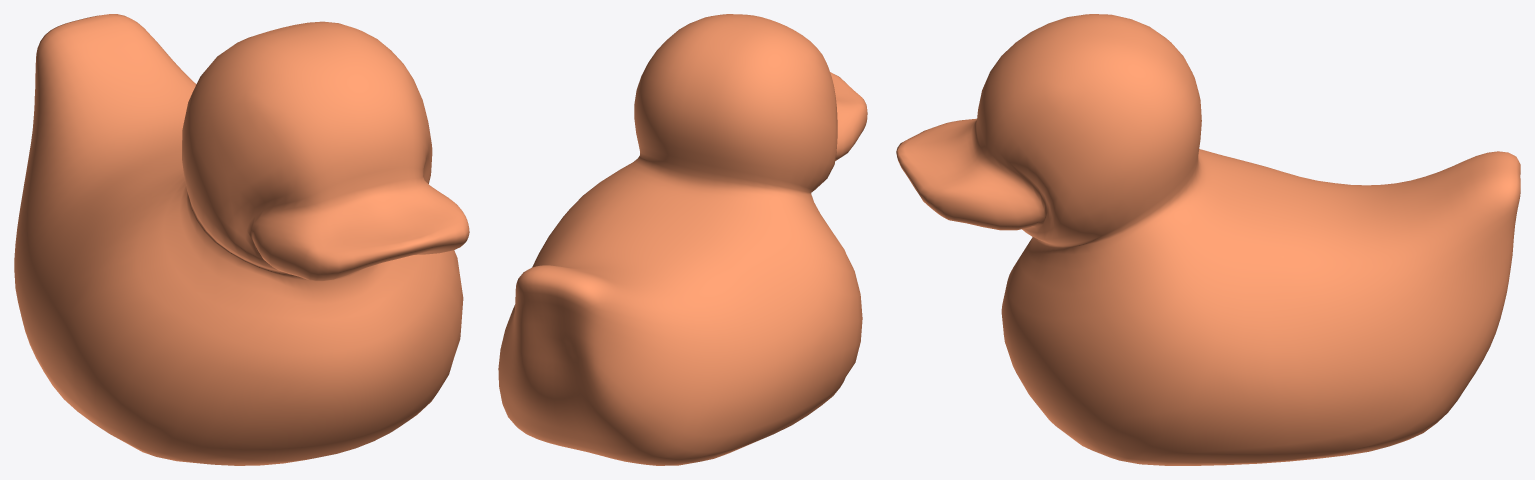
File: duck.glb
The picture shows the model from 3 angles, left to right: view 1: azimuth 30°, elevation 25°; view 2: azimuth 150°, elevation 25°; view 3: azimuth 270°, elevation 25°; orthographic projection. The views are drawn at different scales.
Visible parts, largest first — view 1: Cube; view 2: Cube; view 3: Cube.
Part boxes in pixels (x1,y1,x2,y2): Cube: (14, 14, 469, 465); Cube: (498, 14, 867, 465); Cube: (896, 14, 1520, 465).
Bounding box in the file's own units: 1.85 × 1.97 × 2.94.
